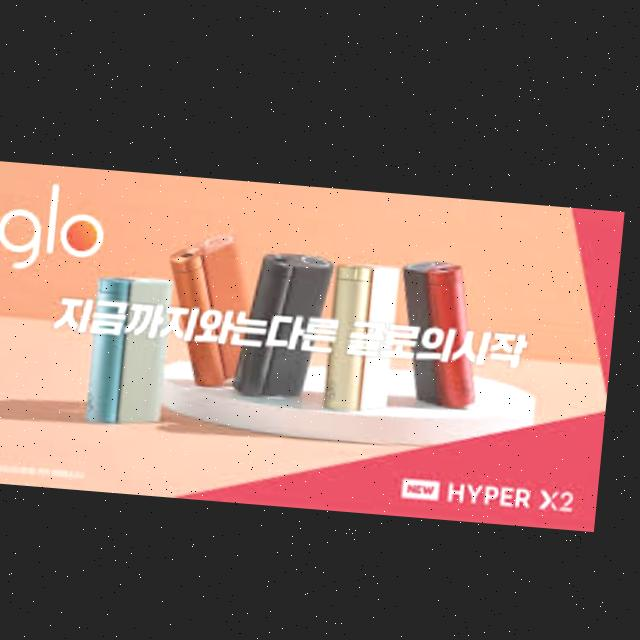vape: (396, 249, 493, 403), (167, 226, 261, 384), (241, 245, 338, 395), (94, 273, 177, 421), (330, 257, 407, 408)
